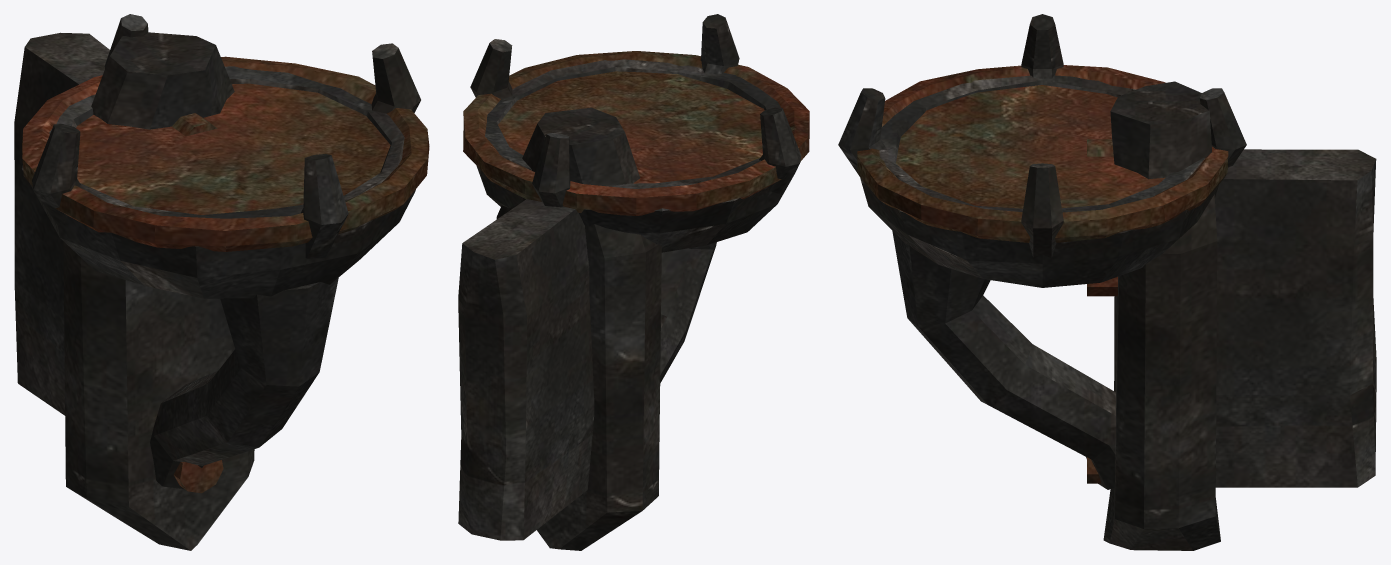
File: crypt_forged_sconce.glb
3 renders of one model, left to right at view 1: azimuth 30°, elevation 25°; view 2: azimuth 150°, elevation 25°; view 3: azimuth 270°, elevation 25°, orthographic. The views are drawn at different scales.
Visible parts, largest first — view 1: Crypt Forged Sconce Mesh; view 2: Crypt Forged Sconce Mesh; view 3: Crypt Forged Sconce Mesh.
Boxes of the visible parts, x1,y1,x2,y2 form: Crypt Forged Sconce Mesh: (14,14,429,550); Crypt Forged Sconce Mesh: (458,14,809,550); Crypt Forged Sconce Mesh: (838,14,1376,550).
Size of the model in its own units: 0.4692 by 0.5743 by 0.6199.
2 materials, 2 textured.
